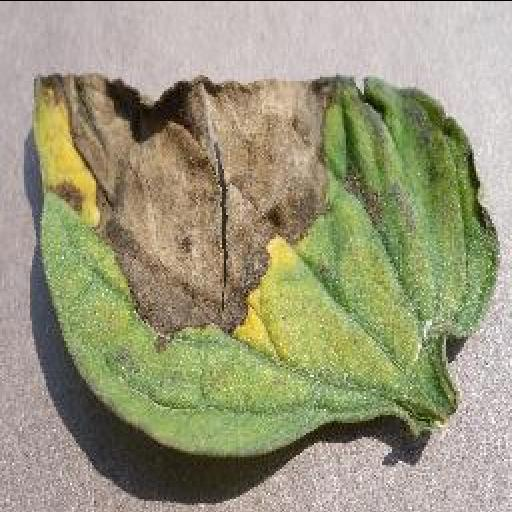disease_tomato: (31, 71, 497, 461)
